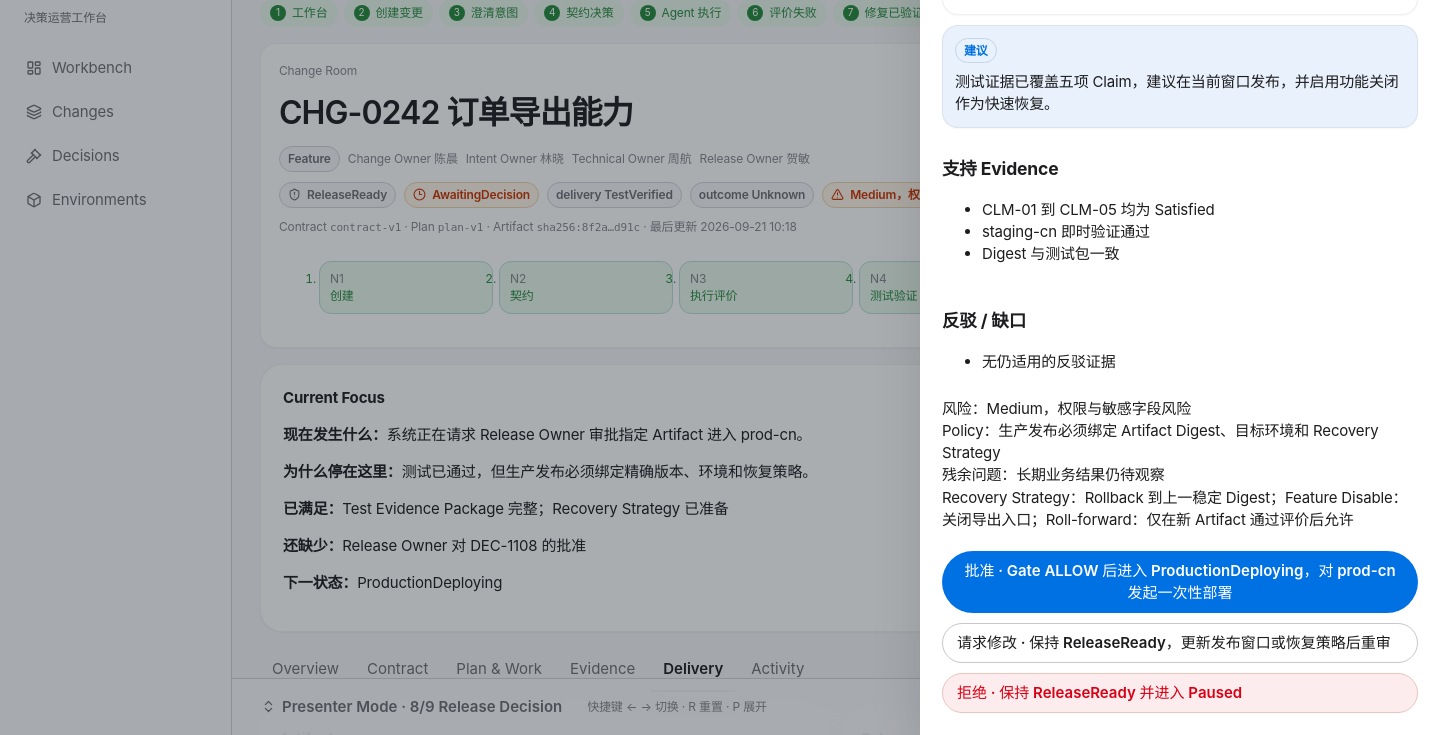
decision, evidence and delivery flow › records verification and closure on the lifecycle timeline after deployment
(page scrolled)
Click the button with test id "decision-approve" at (1180, 582), box [942,551,1418,613]
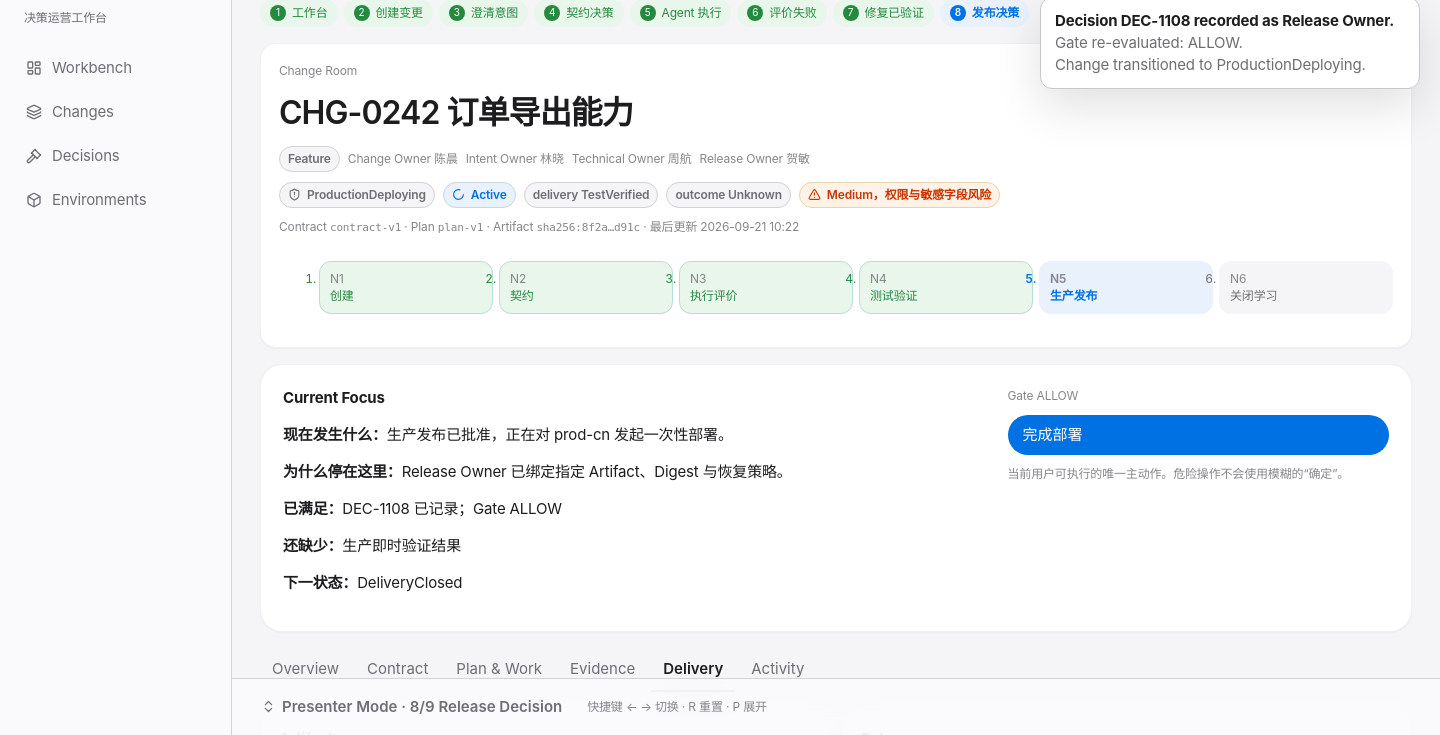
Check: the element with test id "toast-event" shows "DEC-1108", box [1055,11,1394,30]
Check: the element with test id "toast-event" shows "ALLOW", box [1055,33,1243,52]
Click the button with test id "primary-action" at (1053, 434), box [1008,415,1389,455]
Wait 1500 ms
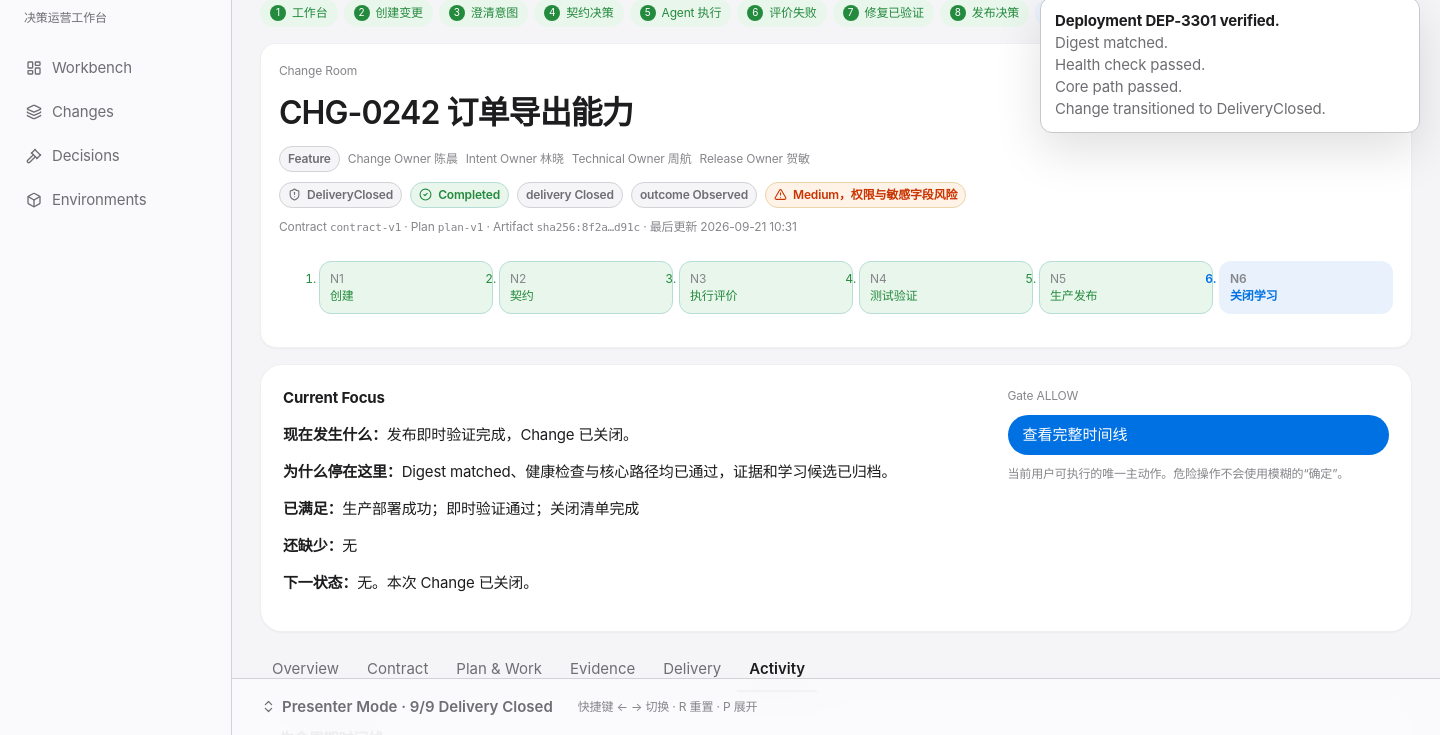
Click the tab "Delivery" at (692, 670), box [651,648,733,692]
(page scrolled)
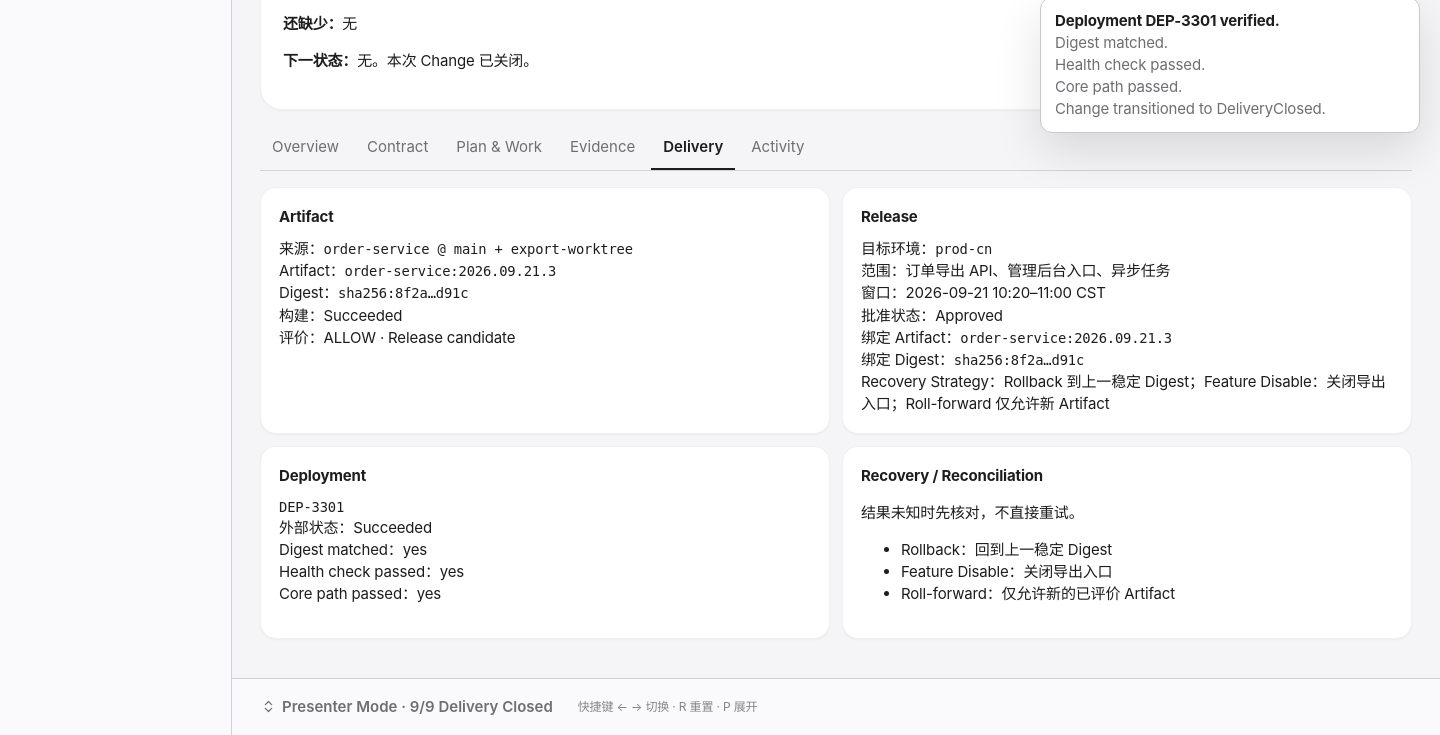
Check: the element with test id "deployment-card" shows "Health check passed", box [279,562,440,581]
Check: the element with test id "deployment-card" shows "Core path passed", box [279,584,417,603]
